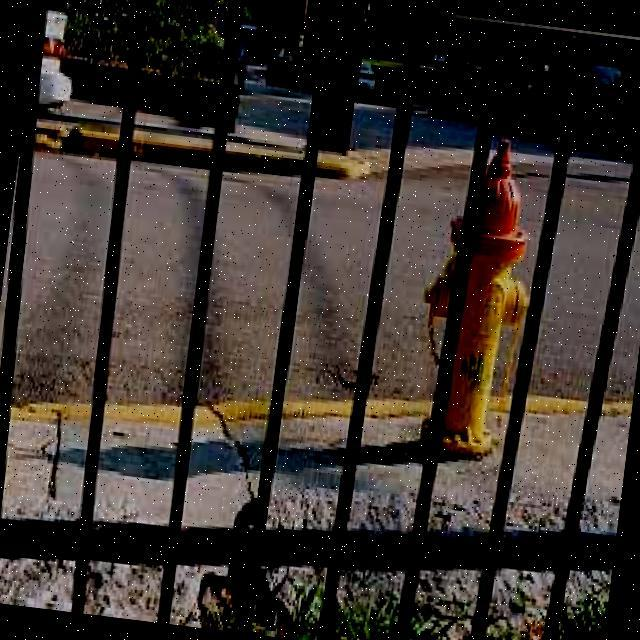fire_hydrant: (404, 128, 547, 464)
